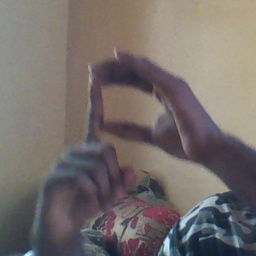P: (52, 47, 192, 205)
